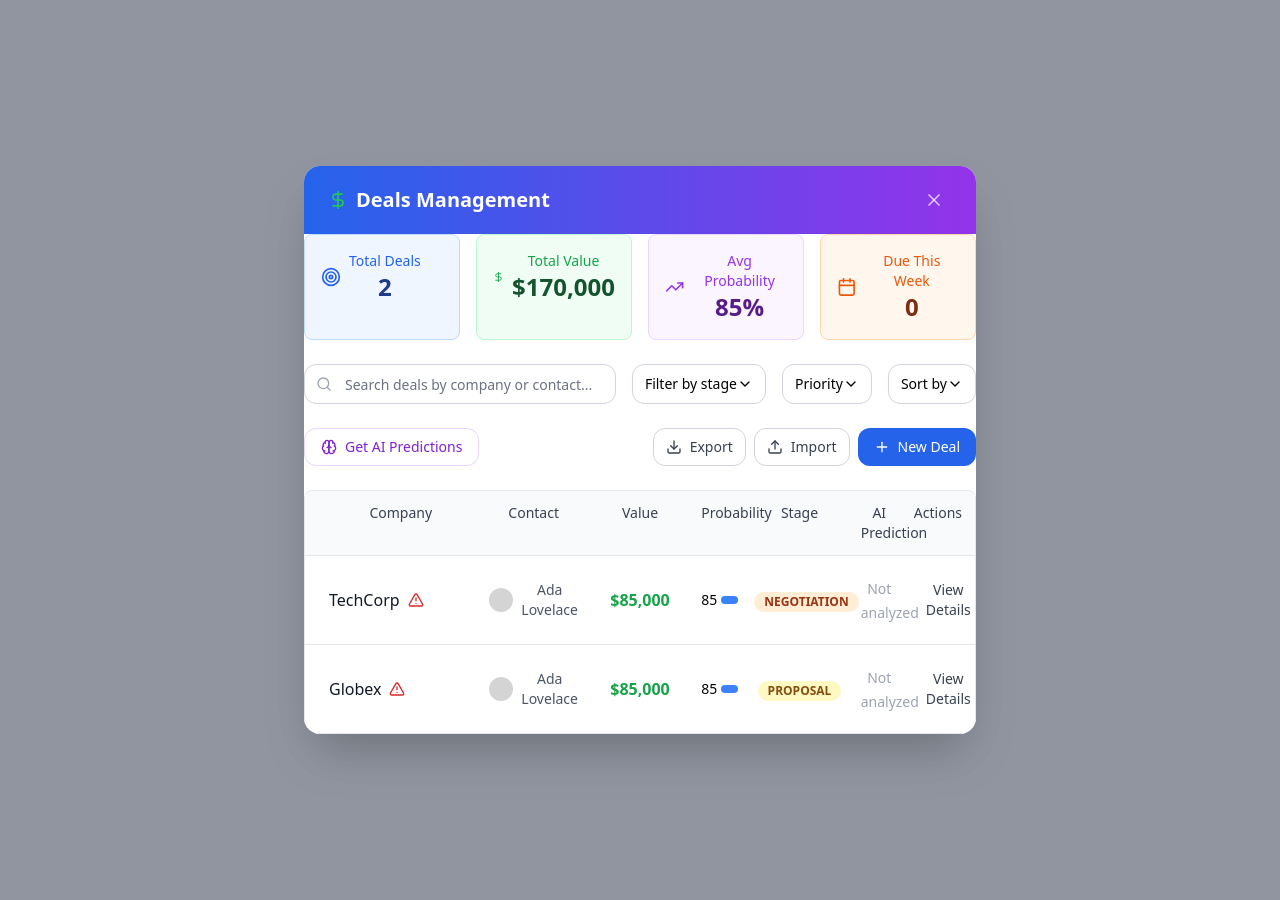
Test: DealsManagementModal › lists stored deals, searches them, and opens one
The image size is (1280, 900).
Later steps or results of the test are not shown.
Expected: the text "TechCorp" is shown, x1=329 y1=588 x2=400 y2=612
Expected: the text "Globex" is shown, x1=329 y1=677 x2=382 y2=701
Type "glob" into the field with placeholder "Search deals by company or contact...". click: x=460, y=384
box: x1=304 y1=364 x2=616 y2=404
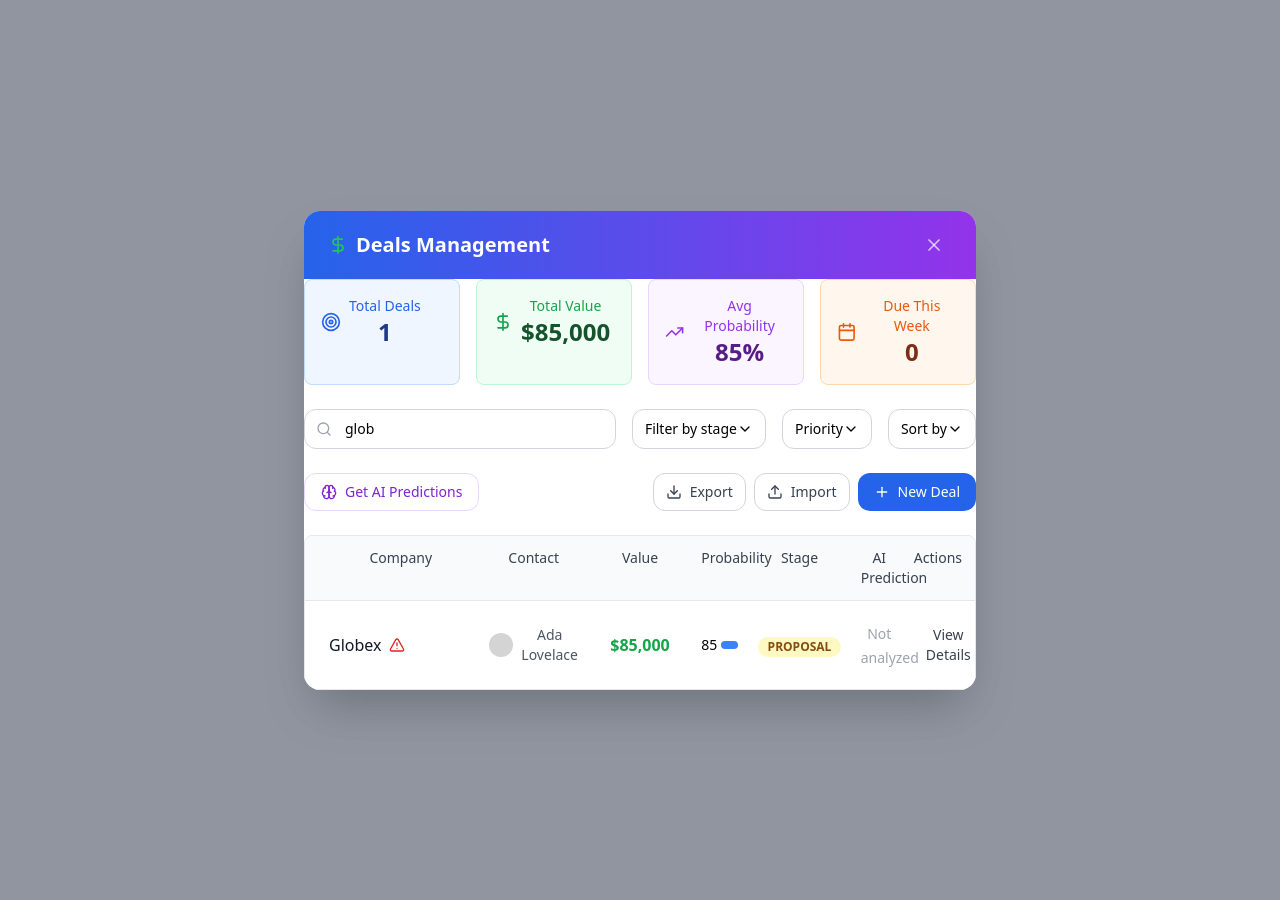
Result: the text "TechCorp" is gone
